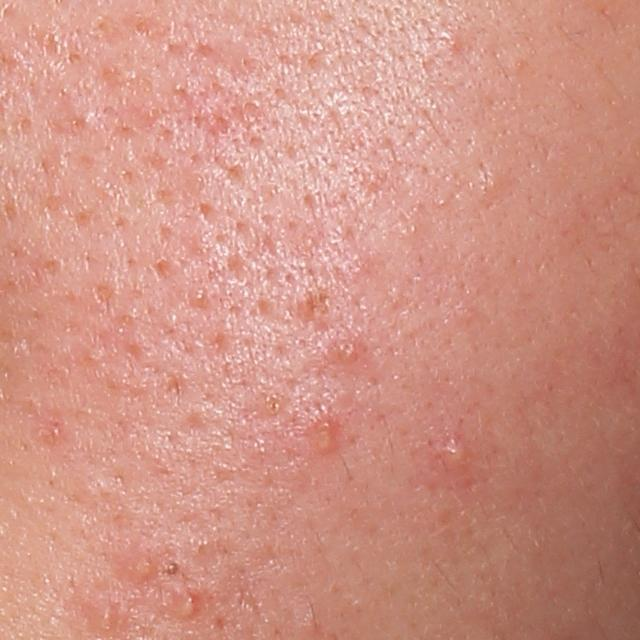comedo: (476, 167, 508, 205), (160, 559, 185, 580)
papule: (309, 418, 340, 459)
pustule: (436, 436, 472, 471), (175, 591, 207, 620)
